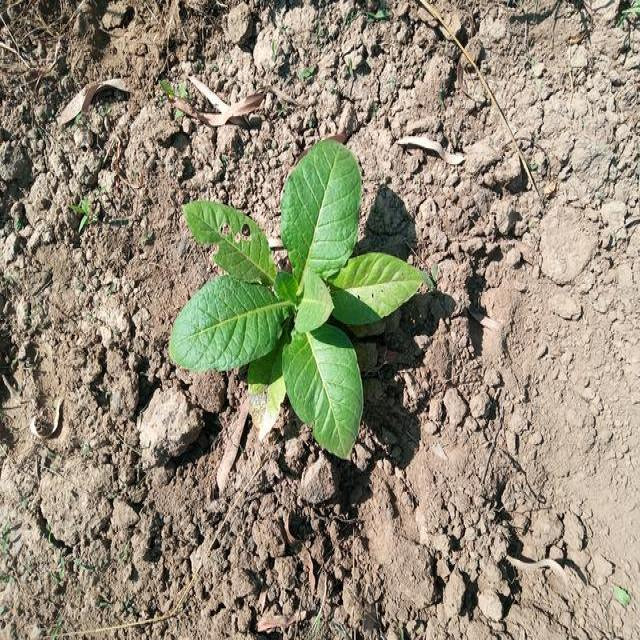crop: (175, 140, 440, 463)
